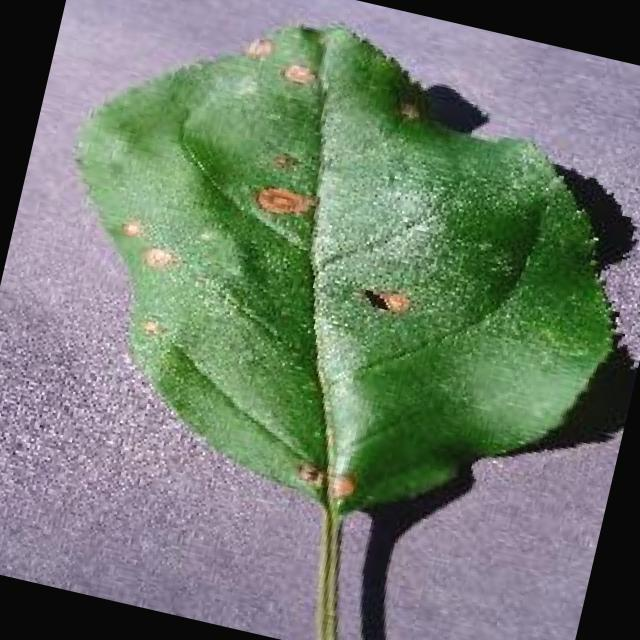leaf_spot: (78, 27, 611, 640)
